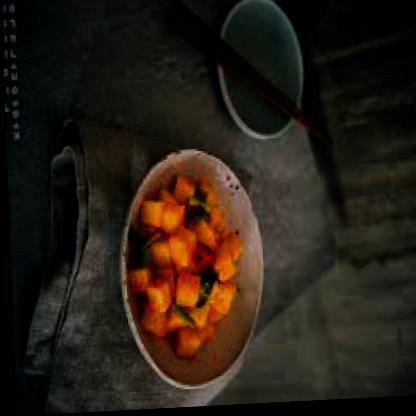radish Kimchi: (119, 178, 249, 369)
